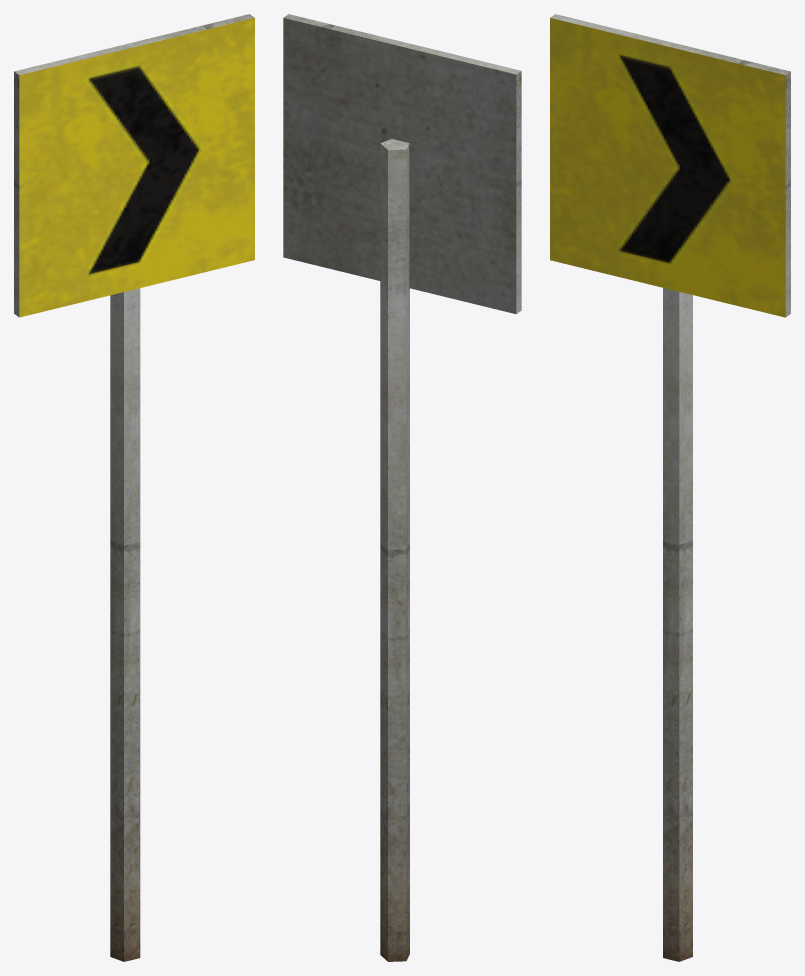
Rendered from square_right.fbx.
The picture shows the model from 3 angles, left to right: view 1: azimuth 30°, elevation 25°; view 2: azimuth 150°, elevation 25°; view 3: azimuth 330°, elevation 25°; orthographic projection.
Visible parts, largest first — view 1: Plane.010; view 2: Plane.010; view 3: Plane.010.
Part boxes in pixels (left/top/right/bottom): Plane.010: left=14, top=14, right=254, bottom=961; Plane.010: left=283, top=14, right=521, bottom=961; Plane.010: left=550, top=14, right=790, bottom=961.
Bounding box in the file's own units: 129 × 479 × 16.98.
